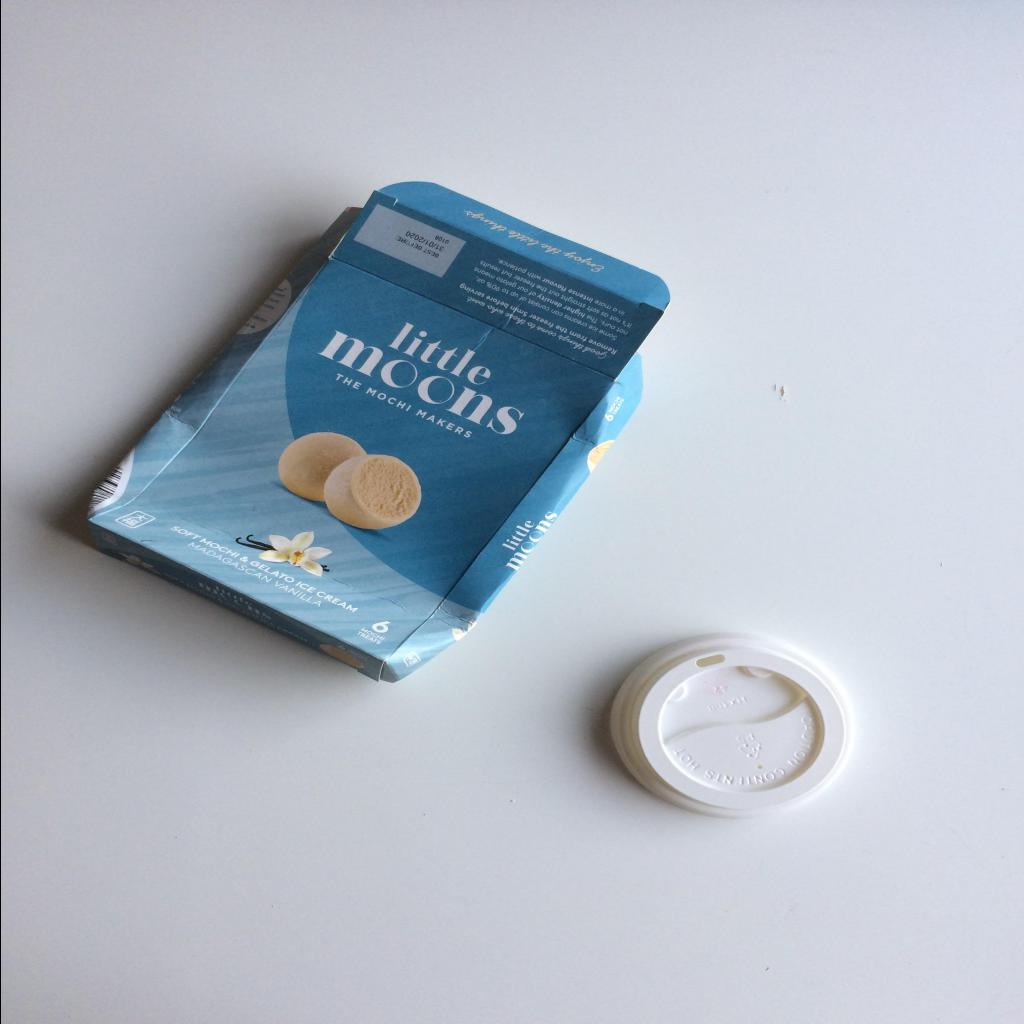Other carton: (86, 182, 670, 684)
Plastic lid: (609, 632, 865, 819)
